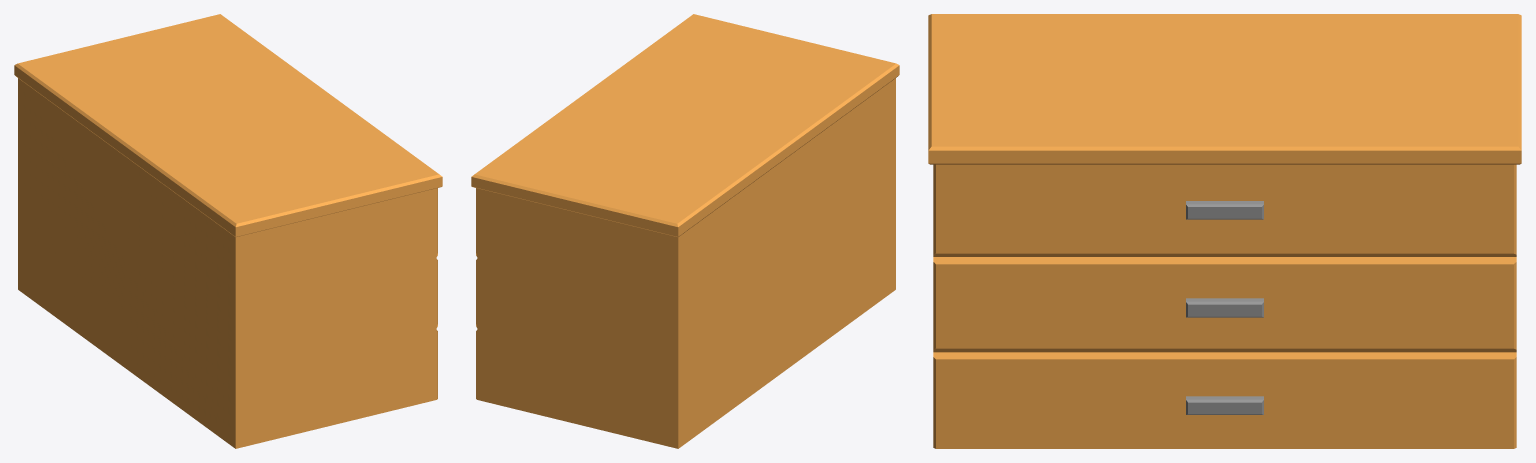
File: Y_tumbochka.glb
The picture shows the model from 3 angles, left to right: view 1: azimuth 30°, elevation 25°; view 2: azimuth 150°, elevation 25°; view 3: azimuth 270°, elevation 25°; orthographic projection. The views are drawn at different scales.
Parts seen in each view (by area): view 1: Cube; view 2: Cube; view 3: Cube.
Part boxes in pixels (bbox=[...]): Cube: bbox=[14, 14, 442, 448]; Cube: bbox=[471, 14, 899, 448]; Cube: bbox=[928, 14, 1521, 448].
Size of the model in its own units: 2.08 by 2.12 by 3.77.
